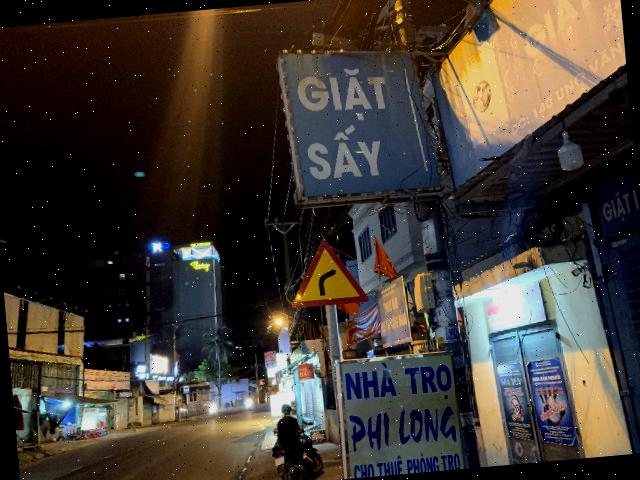cho-ngoat-nguy-hiem-ben-phai: (286, 234, 370, 308)
